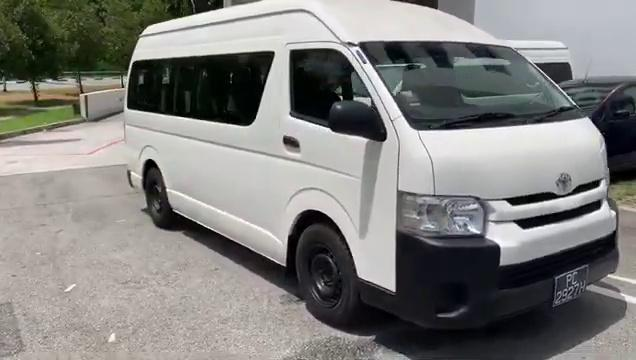van: (109, 0, 627, 333)
